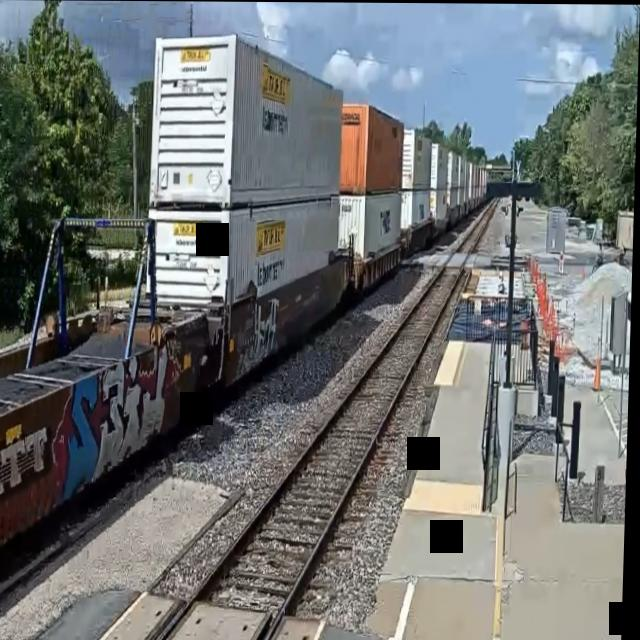container: (145, 26, 349, 216), (143, 190, 345, 311), (340, 97, 407, 197), (338, 189, 407, 264)
flatcar: (0, 282, 216, 603), (203, 241, 353, 402)
